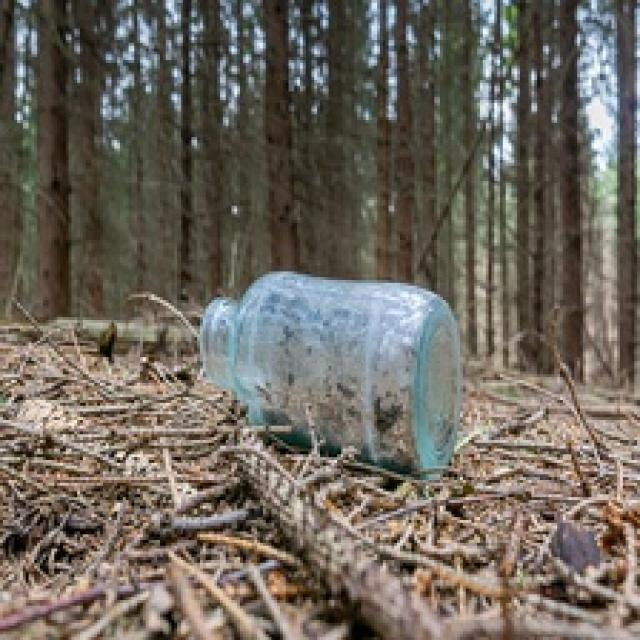Glass: (196, 270, 458, 480)
